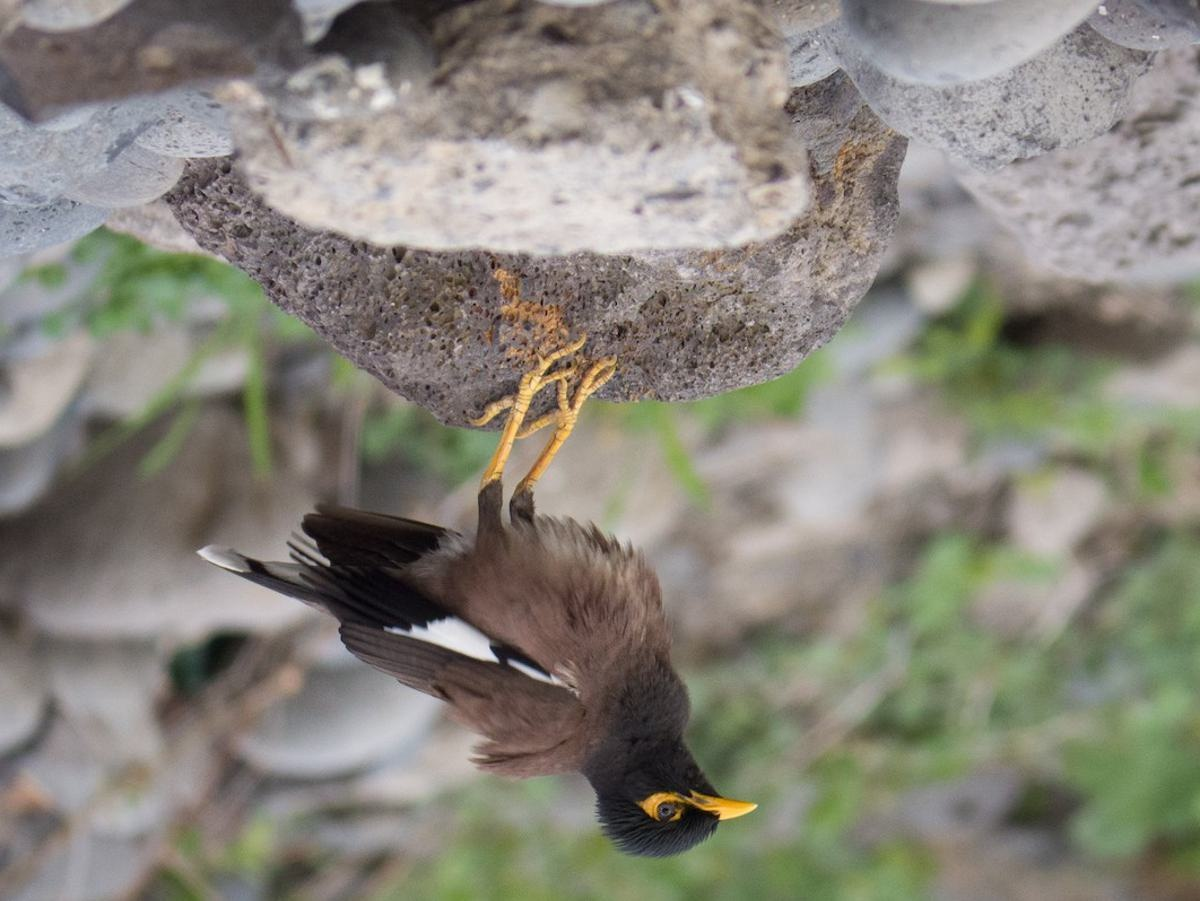myna: (278, 374, 795, 901)
